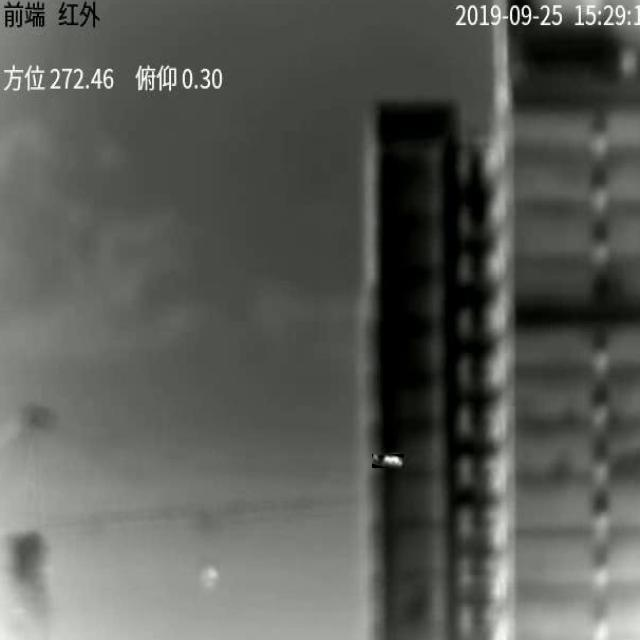drone: (373, 454, 404, 466)
